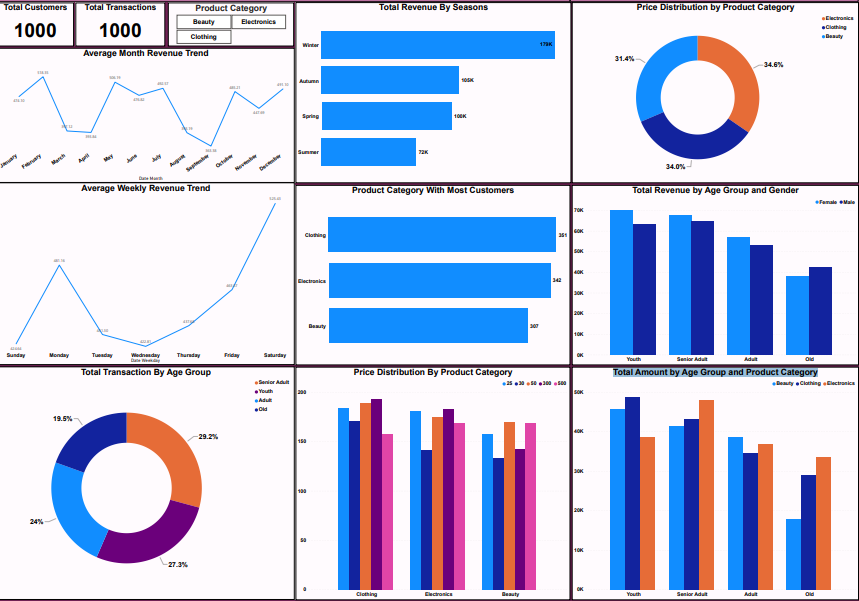

This screenshot's page, from the dashboard's own definition file:
{"tool":"powerbi","page":{"name":"Page 1","canvas":[2700,2000],"ordinal":0},"visuals":[{"type":"card","title":"Total Customers ","fields":{"Values":["Count(retail_sales_dataset.Customer ID)"]},"box":[10.5,83.6,238.3,135.9],"z":0},{"type":"card","title":"Total Transactions","fields":{"Values":["Count(retail_sales_dataset.Transaction ID)"]},"box":[255,83.6,278,135.9],"z":1},{"type":"slicer","title":"Product Category ","fields":{"Values":["retail_sales_dataset.Product Category"]},"box":[543.4,83.6,390.8,135.9],"z":2},{"type":"clusteredColumnChart","title":"Total Revenue by Age Group and Gender","fields":{"Category":["retail_sales_dataset.Age Group"],"Series":["retail_sales_dataset.Gender"],"Y":["Sum(retail_sales_dataset.Total Amount)"]},"box":[1800,650.8,892.1,558.7],"z":3},{"type":"lineChart","title":"Average  Weekly Revenue Trend","fields":{"Category":["retail_sales_dataset.Date Weekday"],"Y":["Avg(retail_sales_dataset.Total Amount)"]},"box":[9.6,643.1,926,565.9],"z":4},{"type":"lineChart","title":"Average Month Revenue Trend","fields":{"Category":["retail_sales_dataset.Date Month"],"Y":["Avg(retail_sales_dataset.Total Amount)"]},"box":[9.6,225.1,926,418],"z":5},{"type":"barChart","title":"Product Category With Most Customers ","fields":{"Category":["retail_sales_dataset.Product Category"],"Y":["Count(retail_sales_dataset.Customer ID)"]},"box":[939.7,650.8,854,558.7],"z":6},{"type":"clusteredColumnChart","title":"Total Amount by Age Group and Product Category","fields":{"Category":["retail_sales_dataset.Age Group"],"Series":["retail_sales_dataset.Product Category"],"Y":["Sum(retail_sales_dataset.Total Amount)"]},"box":[1800,1215.9,892.1,723.8],"z":7},{"type":"barChart","title":"Total Revenue By Seasons ","fields":{"Category":["retail_sales_dataset.Seasons"],"Y":["Sum(retail_sales_dataset.Total Amount)"]},"box":[939.7,82.5,857.1,561.9],"z":8},{"type":"donutChart","title":"Price Distribution by Product Category","fields":{"Category":["retail_sales_dataset.Product Category"],"Y":["Sum(retail_sales_dataset.Price per Unit)"]},"box":[1800,82.5,892.1,561.9],"z":9},{"type":"donutChart","title":"Total Transaction By Age Group","fields":{"Category":["retail_sales_dataset.Age Group"],"Y":["CountNonNull(retail_sales_dataset.Transaction ID)"]},"box":[9.6,1215.4,926,723.5],"z":11},{"type":"clusteredColumnChart","title":"Price Distribution By Product Category ","fields":{"Category":["retail_sales_dataset.Product Category"],"Series":["retail_sales_dataset.Price per Unit"],"Y":["Sum(retail_sales_dataset.Quantity)"]},"box":[939.7,1215.9,854,723.8],"z":12},{"type":"textbox","box":[0,0,1794.2,80.4],"z":13},{"type":"textbox","box":[1794.2,0,897.1,80.4],"z":14}]}

Visuals, with their boxes in screenshot pixels (x1, y1, x2, y2):
"Total Customers " card: (0,4,75,48)
"Total Transactions" card: (77,4,166,48)
"Product Category " slicer: (169,4,293,48)
"Total Revenue by Age Group and Gender" clusteredColumnChart: (570,185,854,363)
"Average  Weekly Revenue Trend" lineChart: (0,183,294,363)
"Average Month Revenue Trend" lineChart: (0,49,294,183)
"Product Category With Most Customers " barChart: (295,185,568,363)
"Total Amount by Age Group and Product Category" clusteredColumnChart: (570,365,854,596)
"Total Revenue By Seasons " barChart: (295,4,569,183)
"Price Distribution by Product Category" donutChart: (570,4,854,183)
"Total Transaction By Age Group" donutChart: (0,365,294,596)
"Price Distribution By Product Category " clusteredColumnChart: (295,365,568,596)
textbox: (0,0,568,3)
textbox: (568,0,854,3)
